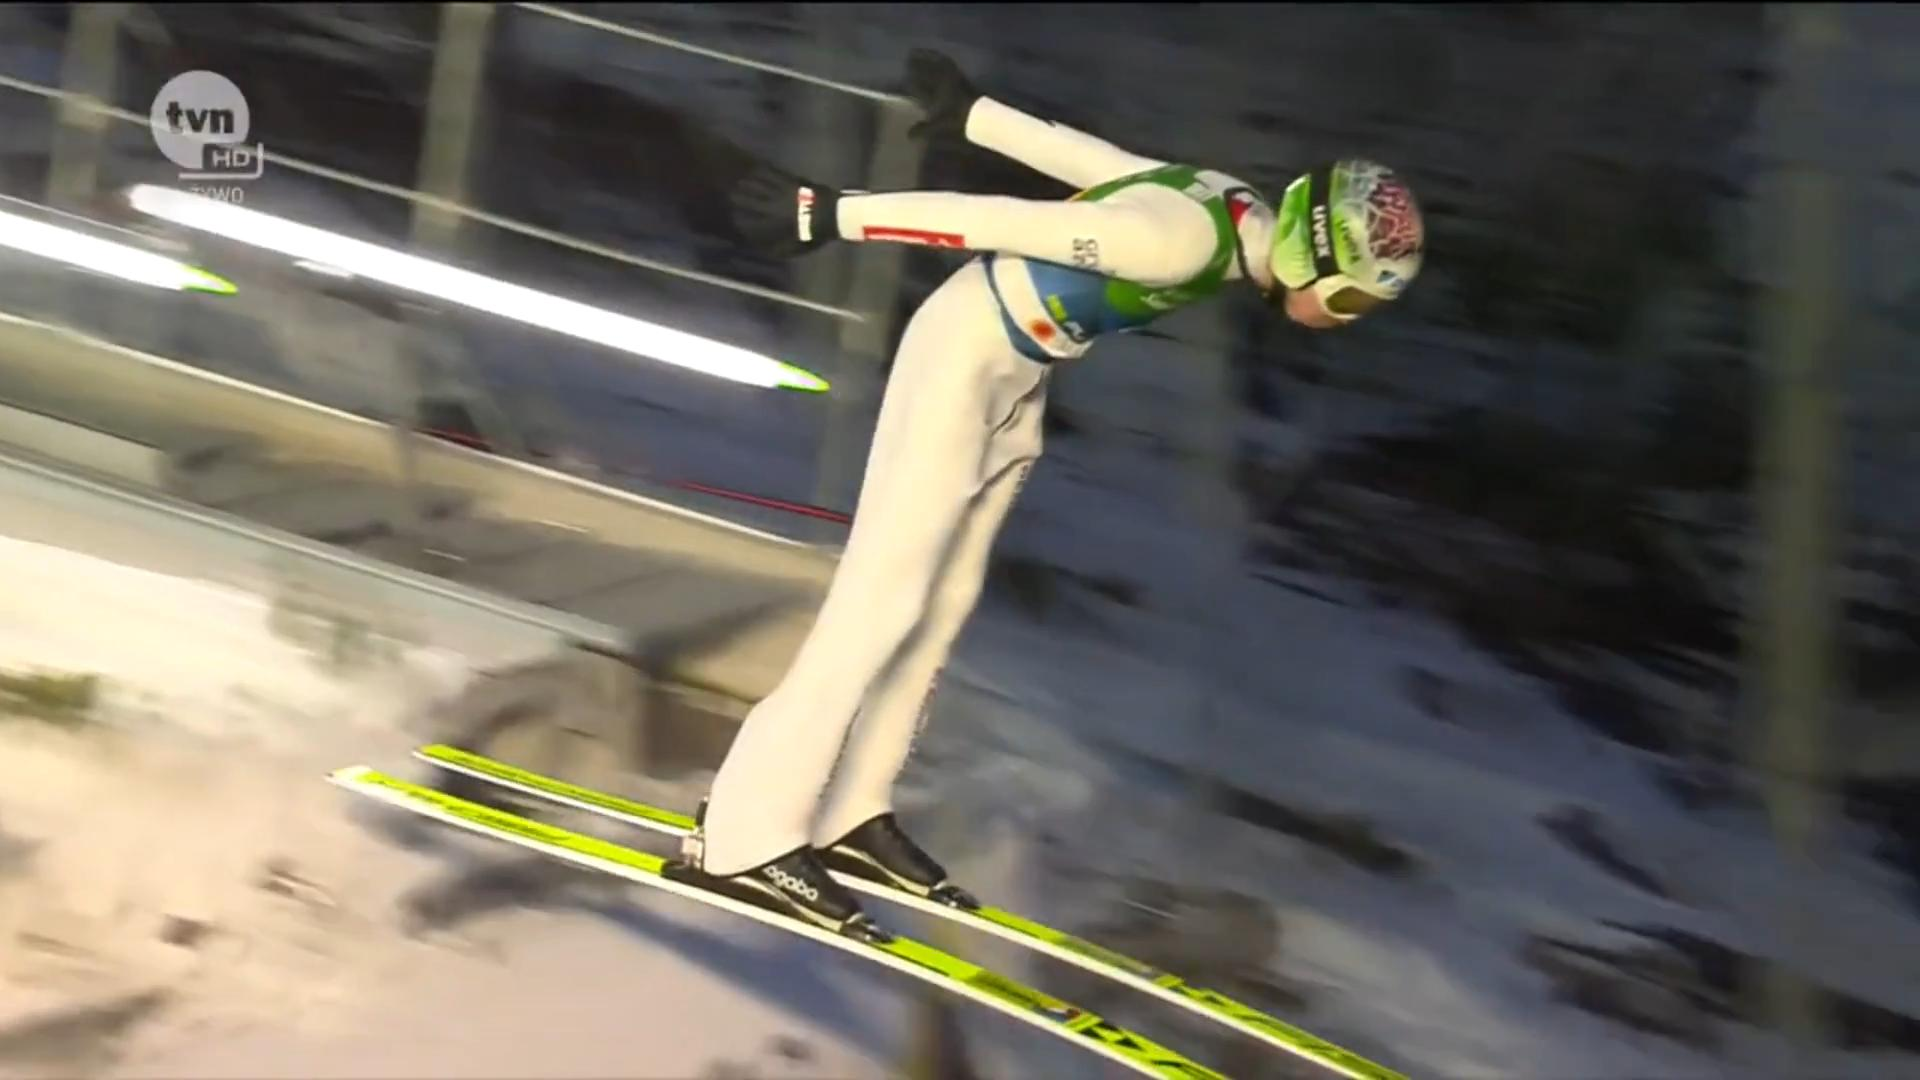prog: (513, 585, 794, 703)
